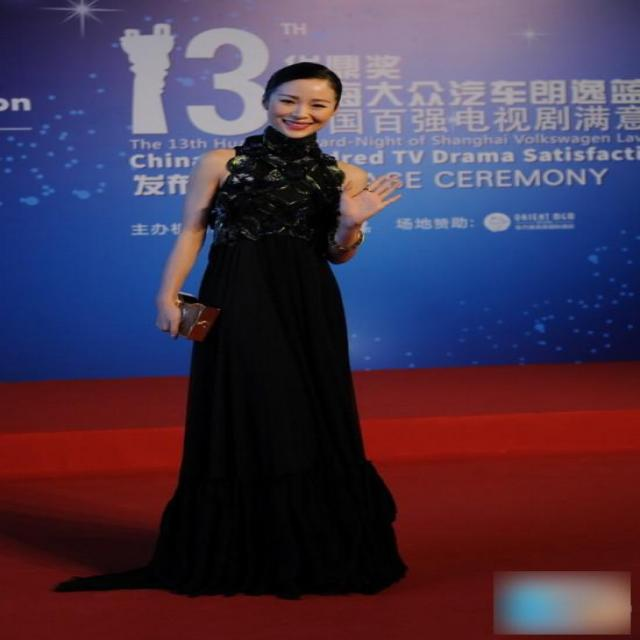Manusia: (127, 59, 420, 587)
